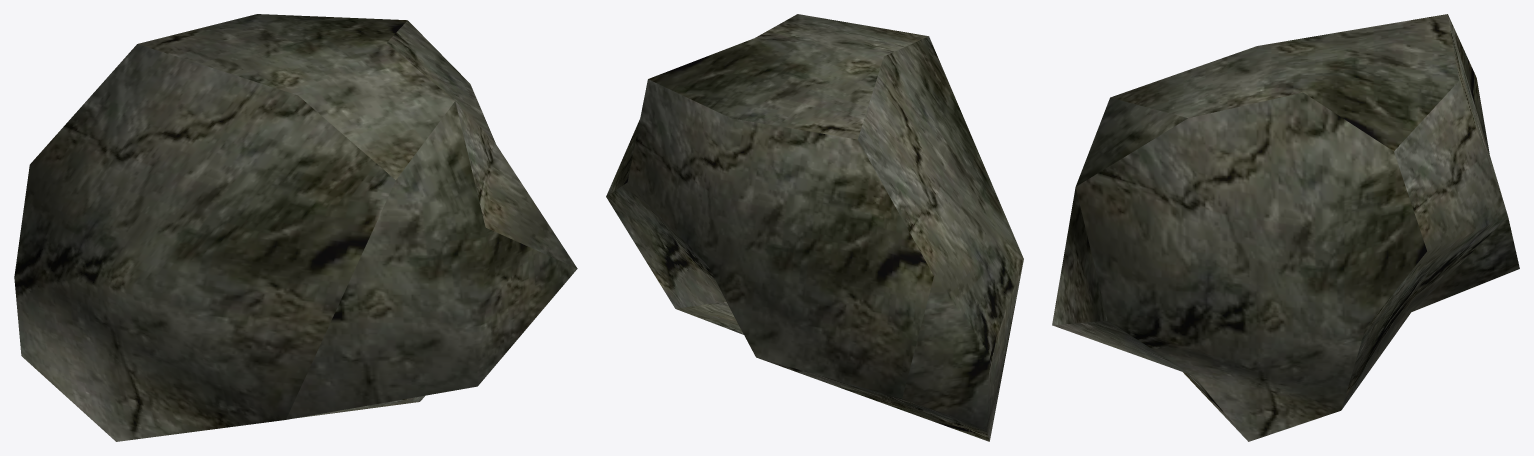
File: MIN_COB_STONE_V2_10.glb
The picture shows the model from 3 angles, left to right: view 1: azimuth 30°, elevation 25°; view 2: azimuth 150°, elevation 25°; view 3: azimuth 270°, elevation 25°; orthographic projection. The views are drawn at different scales.
Visible parts, largest first — view 1: Mesh; view 2: Mesh; view 3: Mesh.
Part boxes in pixels (x1,y1,x2,y2): Mesh: (14,14,577,441); Mesh: (606,14,1023,441); Mesh: (1052,14,1519,441).
Size of the model in its own units: 0.8552 by 0.6556 by 0.791.
Materials: 1 (1 with a texture image).
